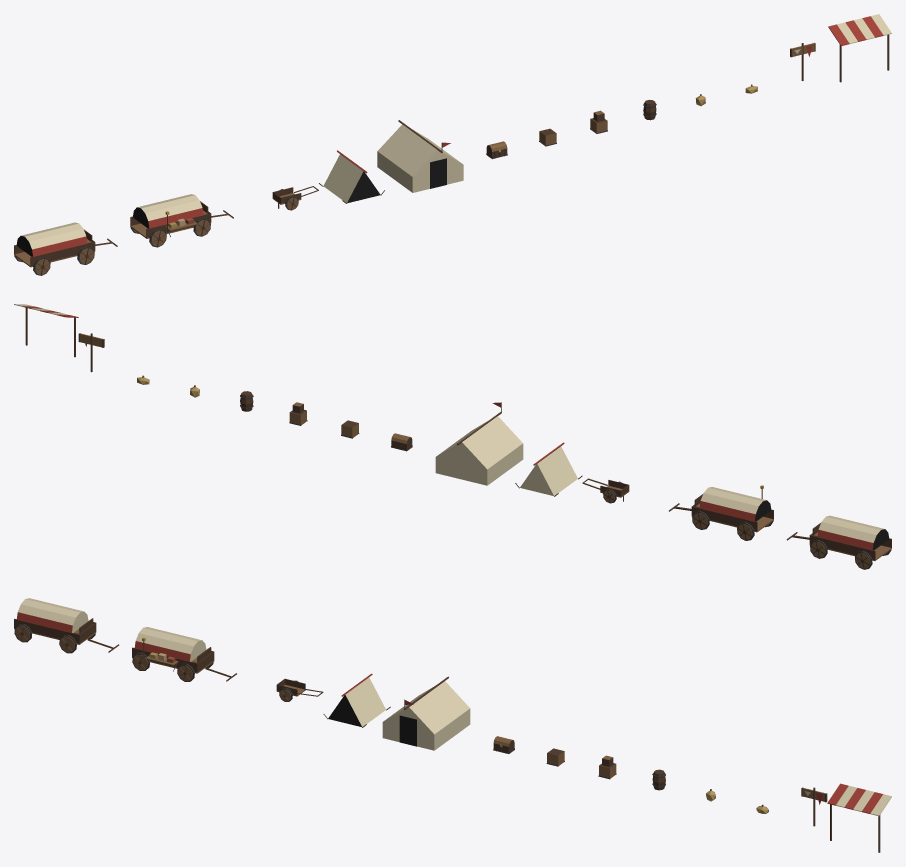
File: caravan-kit.glb
3 views of the same model, one above another, from view 1: azimuth 30°, elevation 25°; view 2: azimuth 150°, elevation 25°; view 3: azimuth 330°, elevation 25° (orthographic).
Visible parts, largest first — view 1: tent_large_a, wagon_trader_a, wagon_covered_a, tent_small_a, awning_a, handcart_a; view 2: tent_large_a, wagon_trader_a, wagon_covered_a, tent_small_a, handcart_a; view 3: tent_large_a, wagon_covered_a, wagon_trader_a, tent_small_a, awning_a, handcart_a.
Boxes of the visible parts, left/top/right/bottom form: tent_large_a: left=377, top=120, right=463, bottom=192; wagon_trader_a: left=130, top=194, right=233, bottom=247; wagon_covered_a: left=14, top=222, right=117, bottom=275; tent_small_a: left=319, top=150, right=384, bottom=203; awning_a: left=828, top=14, right=891, bottom=82; handcart_a: left=272, top=186, right=318, bottom=210; tent_large_a: left=435, top=402, right=523, bottom=485; wagon_trader_a: left=669, top=485, right=773, bottom=540; wagon_covered_a: left=786, top=515, right=891, bottom=569; tent_small_a: left=515, top=442, right=582, bottom=496; handcart_a: left=582, top=478, right=629, bottom=503; tent_large_a: left=382, top=676, right=470, bottom=750; wagon_covered_a: left=14, top=598, right=119, bottom=653; wagon_trader_a: left=132, top=627, right=236, bottom=681; tent_small_a: left=323, top=673, right=390, bottom=727; awning_a: left=827, top=783, right=891, bottom=852; handcart_a: left=276, top=678, right=323, bottom=701.
Bounding box in the file's own units: 50.44 × 2.75 × 4.42.
Materials: 1 (1 with a texture image).
